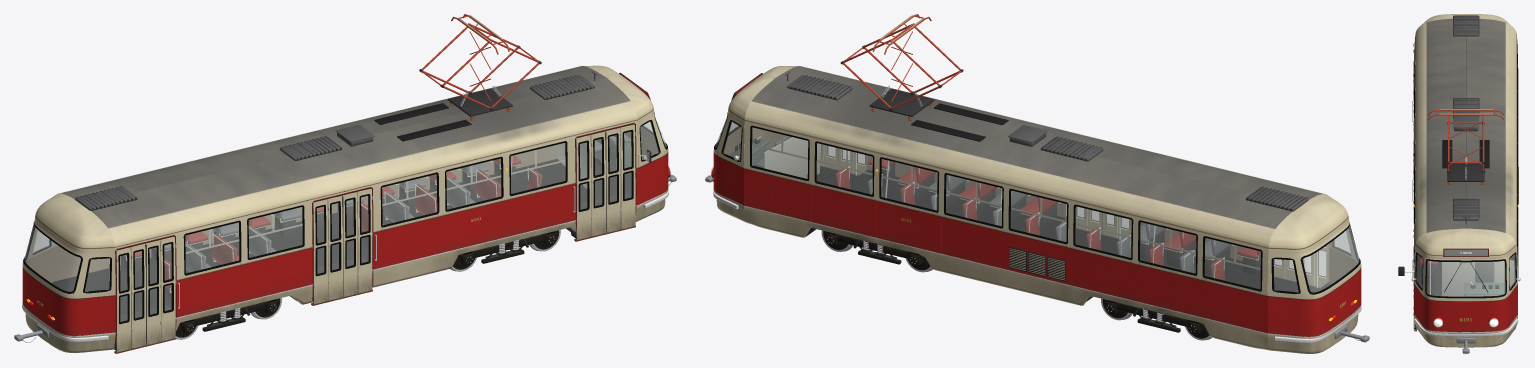
3 renders of one model, left to right at view 1: azimuth 30°, elevation 25°; view 2: azimuth 150°, elevation 25°; view 3: azimuth 270°, elevation 25°, orthographic. The views are drawn at different scales.
Parts seen in each view (by area): view 1: body.paint, glass.glass, rear_mask.paint, interior.floor, interior.umakart, interior.leather_grey, front_mask.paint, interior.leather_red, roof_vents.roofgrey, body.rubber, interior.darkmetal, pantograph.panto (+28 smaller); view 2: body.paint, glass.glass, rear_mask.paint, body.rubber, interior.floor, interior.leather_red, front_mask.paint, interior.darkmetal, roof_vents.roofgrey, interior.leather_grey, interior.umakart, pantograph.panto (+13 smaller); view 3: body.paint, front_mask.paint, glass.glass, roof_vents.roofgrey, interior.lining, roof_vents.darkmetal, front_mask.rubber, pantograph.panto, pantograph.darkmetal, body.rubber, front_mask.chrome, roof_equipment.mat_roof (+12 smaller).
Boxes of the visible parts, <box> form: body.paint: <box>60,66,638,349</box>; glass.glass: <box>24,115,666,291</box>; rear_mask.paint: <box>22,193,115,352</box>; interior.floor: <box>52,159,631,315</box>; interior.umakart: <box>26,125,658,282</box>; interior.leather_grey: <box>149,140,601,272</box>; front_mask.paint: <box>584,65,668,221</box>; interior.leather_red: <box>118,155,542,290</box>; roof_vents.roofgrey: <box>75,75,594,210</box>; body.rubber: <box>183,141,567,275</box>; interior.darkmetal: <box>120,128,616,306</box>; pantograph.panto: <box>421,14,539,108</box>; body.paint: <box>744,66,1324,350</box>; glass.glass: <box>715,115,1359,293</box>; rear_mask.paint: <box>1268,194,1361,353</box>; body.rubber: <box>750,125,1262,291</box>; interior.floor: <box>816,166,1331,293</box>; interior.leather_red: <box>835,158,1260,280</box>; front_mask.paint: <box>713,66,798,222</box>; interior.darkmetal: <box>735,138,1260,275</box>; roof_vents.roofgrey: <box>787,75,1308,211</box>; interior.leather_grey: <box>754,135,1231,272</box>; interior.umakart: <box>723,127,1357,283</box>; pantograph.panto: <box>842,14,961,109</box>; body.paint: <box>1414,18,1518,325</box>; front_mask.paint: <box>1414,228,1517,347</box>; glass.glass: <box>1416,254,1515,296</box>; roof_vents.roofgrey: <box>1453,15,1478,220</box>; interior.lining: <box>1442,259,1514,296</box>; roof_vents.darkmetal: <box>1453,16,1479,218</box>; front_mask.rubber: <box>1415,252,1516,298</box>; pantograph.panto: <box>1427,110,1504,171</box>; pantograph.darkmetal: <box>1447,122,1485,181</box>; body.rubber: <box>1414,40,1518,277</box>; front_mask.chrome: <box>1412,277,1519,336</box>; roof_equipment.mat_roof: <box>1442,140,1489,168</box>.
Bounding box in the file's own units: 15.13 × 4.84 × 2.94.
34 materials, 6 textured.
